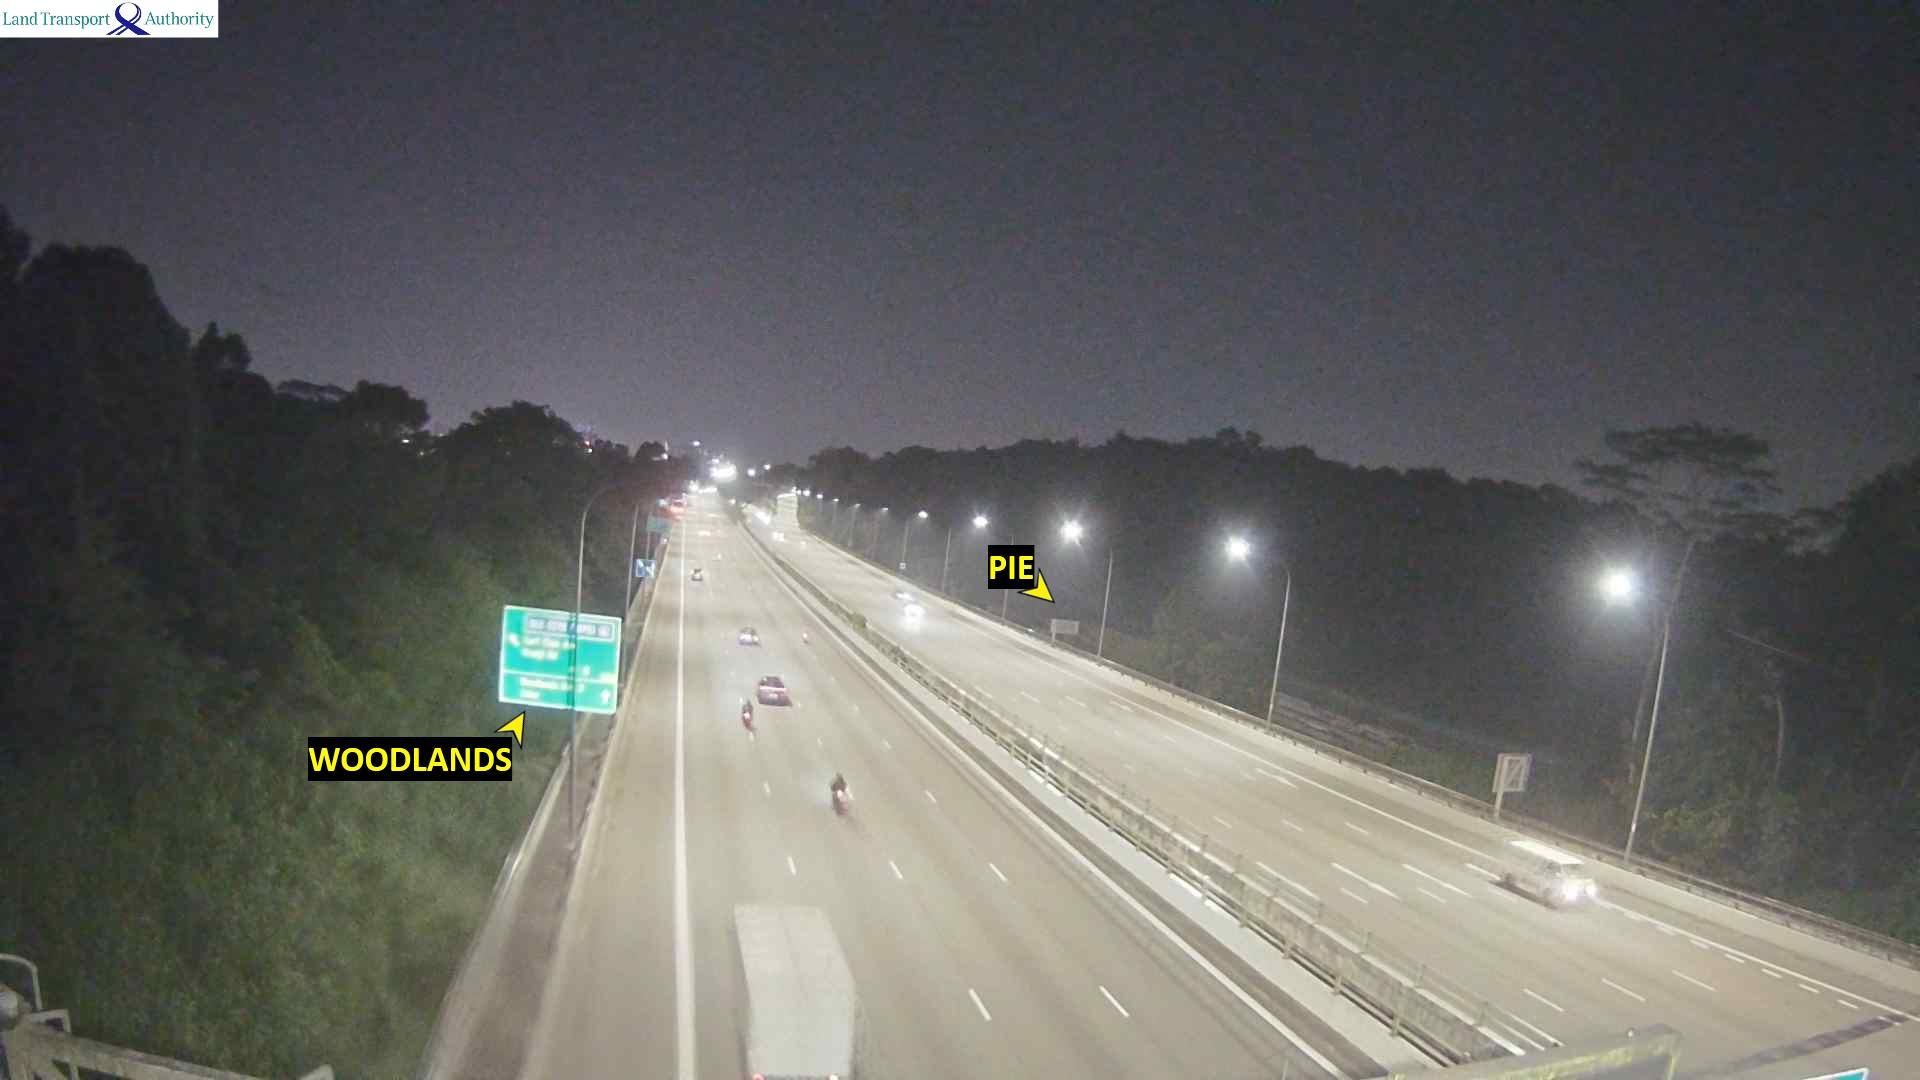cars: (1495, 836, 1597, 909), (756, 674, 790, 705), (901, 601, 923, 629), (737, 626, 760, 645), (891, 588, 911, 601), (688, 566, 703, 580), (769, 527, 785, 541)
motorcycle: (829, 773, 853, 818), (740, 700, 753, 732), (800, 630, 808, 644)
trucks: (731, 899, 860, 1077)
